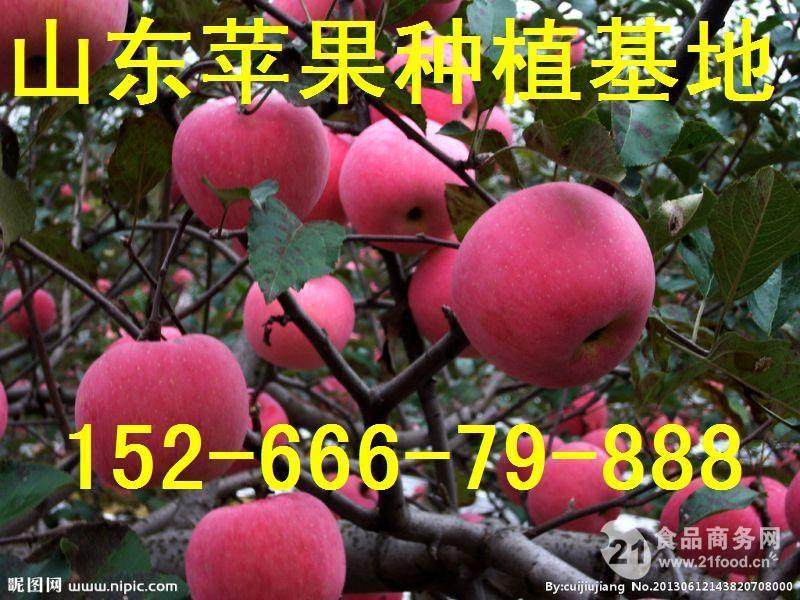apple: (449, 182, 655, 390), (71, 331, 251, 490), (169, 90, 332, 225), (337, 113, 464, 252), (180, 491, 346, 597), (242, 273, 356, 370)
